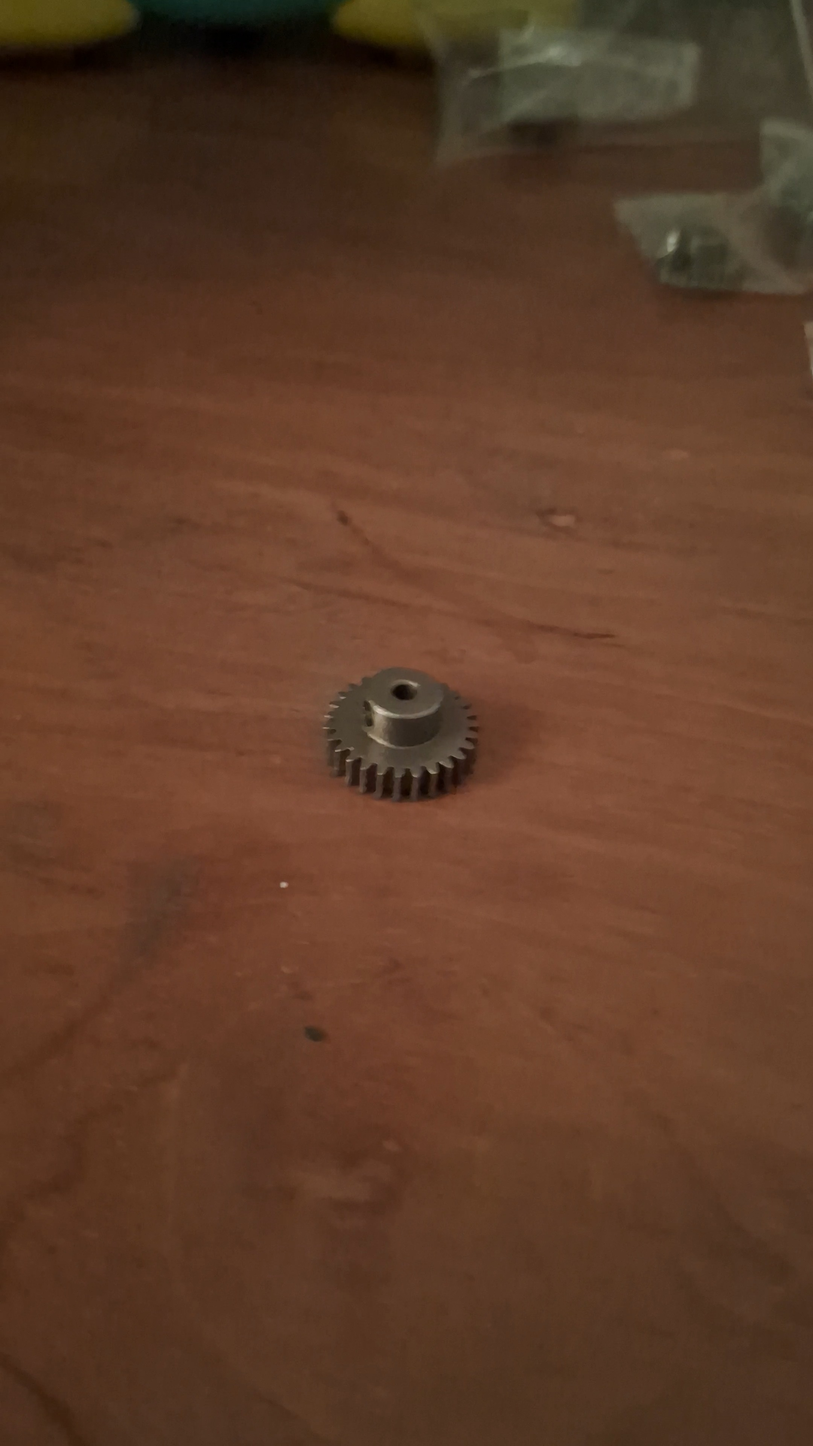spur gear: (324, 668, 477, 800)
